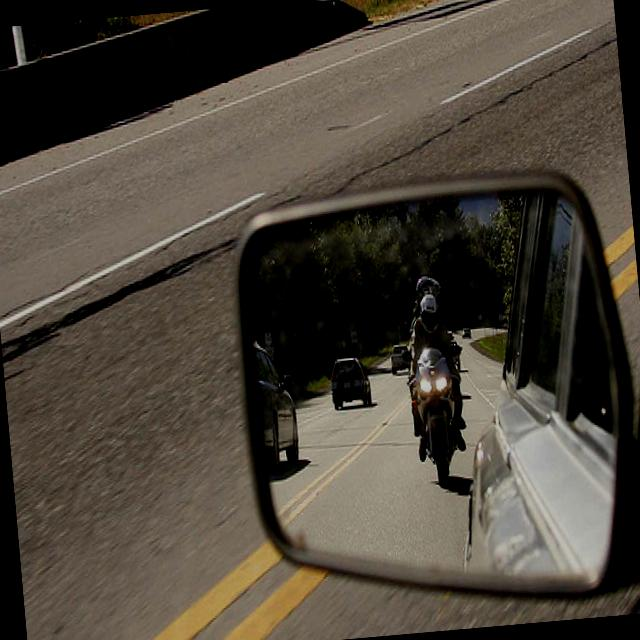Vehicle: (404, 346, 474, 490), (249, 342, 302, 468), (328, 356, 372, 409), (389, 342, 412, 377), (462, 327, 471, 338), (446, 329, 454, 340)
